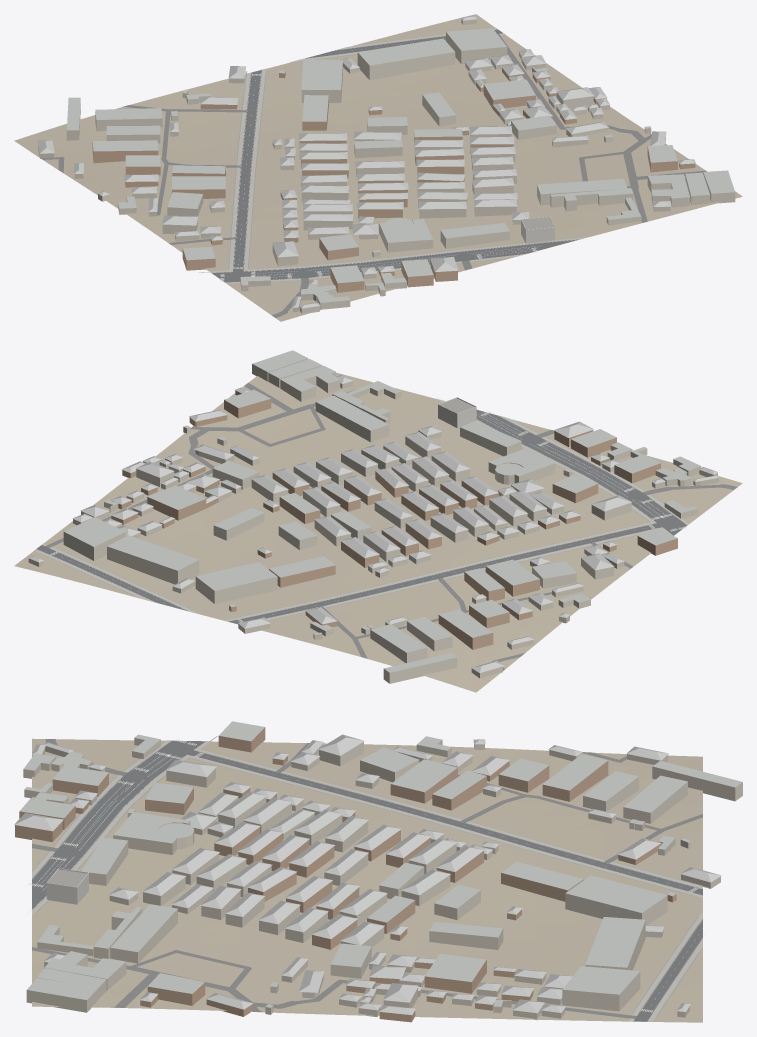
File: bolak_4_-3.glb
3 renders of one model, top to bottom at view 1: azimuth 30°, elevation 25°; view 2: azimuth 150°, elevation 25°; view 3: azimuth 270°, elevation 25°, orthographic. The views are drawn at different scales.
Parts seen in each view (by area): view 1: Yer_Tuproq-col, Tom_Shifer, Devor_Suvoq-col, Devor_Gisht-col, Yol_Asfalt-col, Trotuar, Yol_Mahalla-col, Ariq, Yol_Chiziq, Devor_Dokon-col; view 2: Yer_Tuproq-col, Tom_Shifer, Devor_Suvoq-col, Devor_Gisht-col, Yol_Asfalt-col, Trotuar, Yol_Mahalla-col, Ariq, Yol_Chiziq, Devor_Dokon-col; view 3: Yer_Tuproq-col, Tom_Shifer, Devor_Suvoq-col, Devor_Gisht-col, Yol_Asfalt-col, Trotuar, Yol_Mahalla-col, Ariq, Yol_Chiziq, Devor_Dokon-col.
Boxes of the visible parts, box(x1,y1,x2,y2) form: Yer_Tuproq-col: box(14, 14, 742, 321); Tom_Shifer: box(37, 16, 734, 308); Devor_Suvoq-col: box(38, 19, 735, 313); Devor_Gisht-col: box(92, 68, 695, 292); Yol_Asfalt-col: box(212, 29, 578, 282); Trotuar: box(210, 28, 587, 283); Yol_Mahalla-col: box(41, 34, 706, 317); Ariq: box(198, 34, 581, 282); Yol_Chiziq: box(220, 36, 591, 281); Devor_Dokon-col: box(521, 216, 554, 243); Yer_Tuproq-col: box(14, 372, 742, 692); Tom_Shifer: box(28, 350, 718, 672); Devor_Suvoq-col: box(28, 358, 718, 683); Devor_Gisht-col: box(111, 390, 677, 649); Yol_Asfalt-col: box(36, 410, 686, 624); Trotuar: box(34, 398, 688, 621); Yol_Mahalla-col: box(45, 382, 737, 670); Ariq: box(41, 400, 678, 620); Yol_Chiziq: box(50, 398, 686, 622); Devor_Dokon-col: box(438, 397, 476, 428); Yer_Tuproq-col: box(32, 738, 702, 1022); Tom_Shifer: box(14, 721, 742, 1015); Devor_Suvoq-col: box(23, 738, 742, 1020); Devor_Gisht-col: box(15, 727, 676, 1022); Yol_Asfalt-col: box(32, 740, 702, 1021); Trotuar: box(32, 740, 702, 1021); Yol_Mahalla-col: box(32, 739, 702, 1018); Ariq: box(33, 736, 708, 1016); Yol_Chiziq: box(26, 739, 706, 1012); Devor_Dokon-col: box(46, 868, 88, 904).
Size of what is drawn, in the model's own units: 420 by 29.87 by 435.
